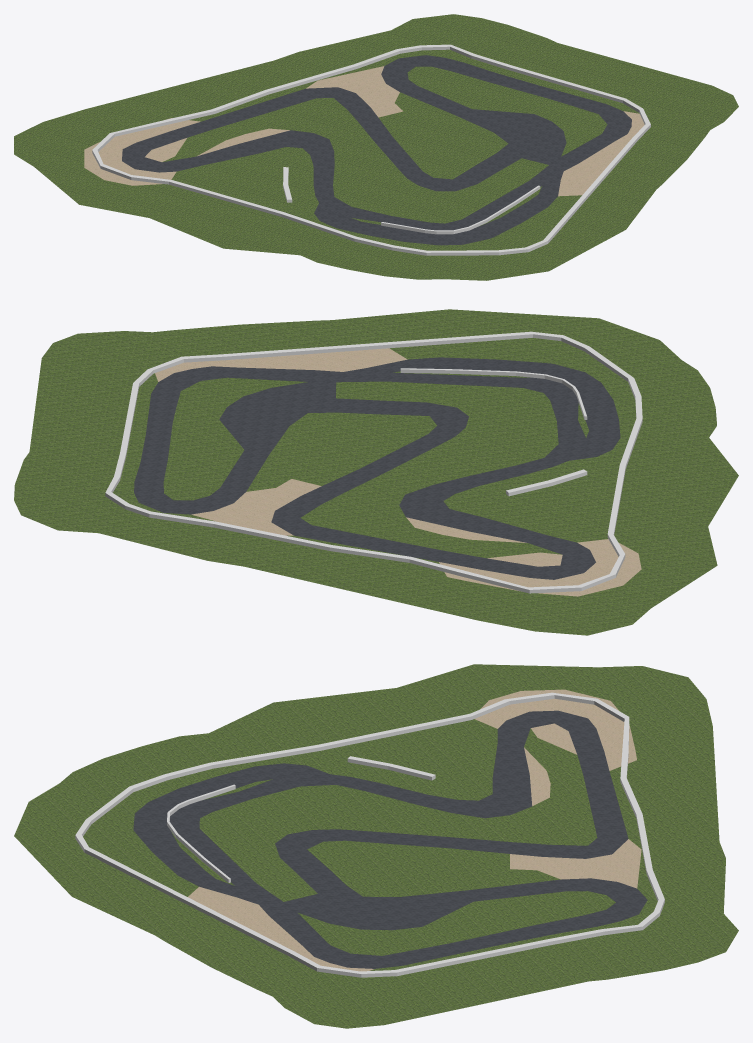
Rendered from Go-kart track.glb.
The picture shows the model from 3 angles, top to bottom: view 1: azimuth 30°, elevation 25°; view 2: azimuth 150°, elevation 25°; view 3: azimuth 270°, elevation 25°; orthographic projection. The views are drawn at different scales.
Visible parts, largest first — view 1: Plane, Cube; view 2: Plane, Cube; view 3: Plane, Cube.
Boxes of the visible parts, box(x1,y1,x2,y2) form: Plane: box(14, 14, 738, 280); Cube: box(92, 44, 650, 255); Plane: box(14, 309, 738, 635); Cube: box(105, 331, 642, 593); Plane: box(14, 664, 738, 1028); Cube: box(75, 692, 664, 977).
Size of the model in its own units: 212 by 1 by 179.
Materials: 3 (3 with a texture image).
